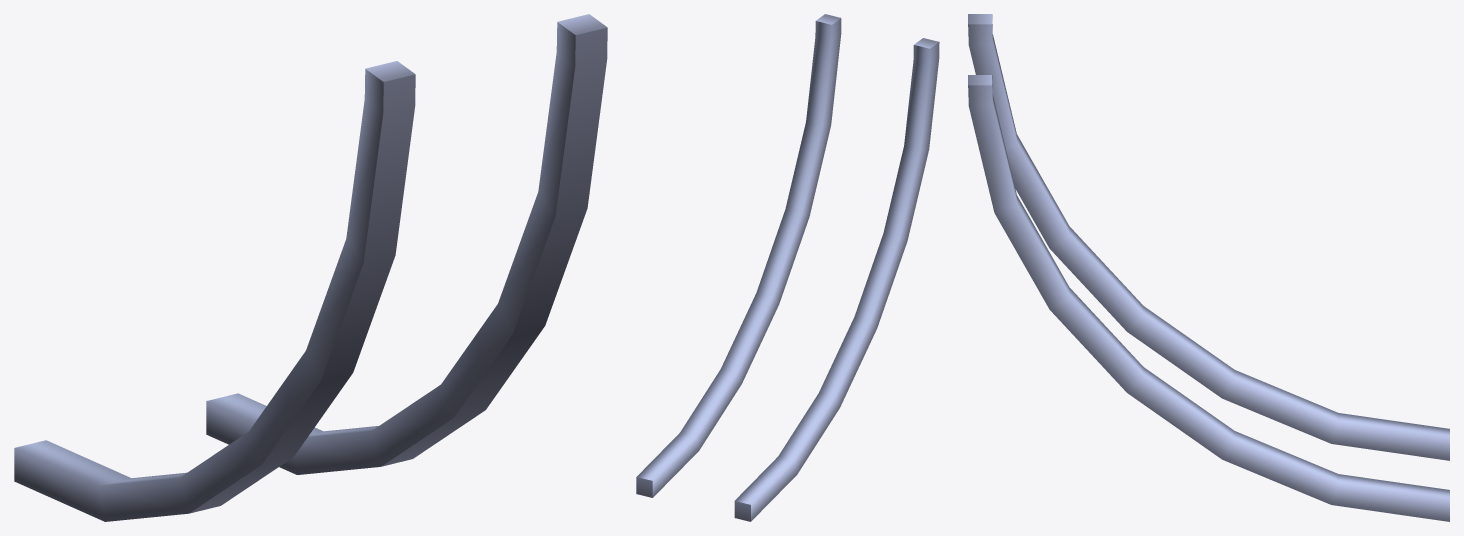
The model's file is kenney-train-railroad-rail-straight-bend.glb.
3 renders of one model, left to right at view 1: azimuth 30°, elevation 25°; view 2: azimuth 150°, elevation 25°; view 3: azimuth 270°, elevation 25°, orthographic. The views are drawn at different scales.
Visible parts, largest first — view 1: railroad-rail-straight-bend; view 2: railroad-rail-straight-bend; view 3: railroad-rail-straight-bend.
Boxes of the visible parts, bbox=[...] form: railroad-rail-straight-bend: bbox=[14, 14, 607, 521]; railroad-rail-straight-bend: bbox=[636, 14, 939, 521]; railroad-rail-straight-bend: bbox=[968, 14, 1449, 521].
Bounding box in the file's own units: 0.7 × 2 × 2.
1 material, 1 textured.
